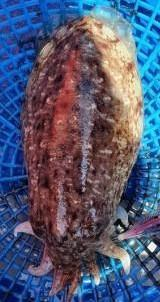Cephalopod: (15, 9, 145, 301)
